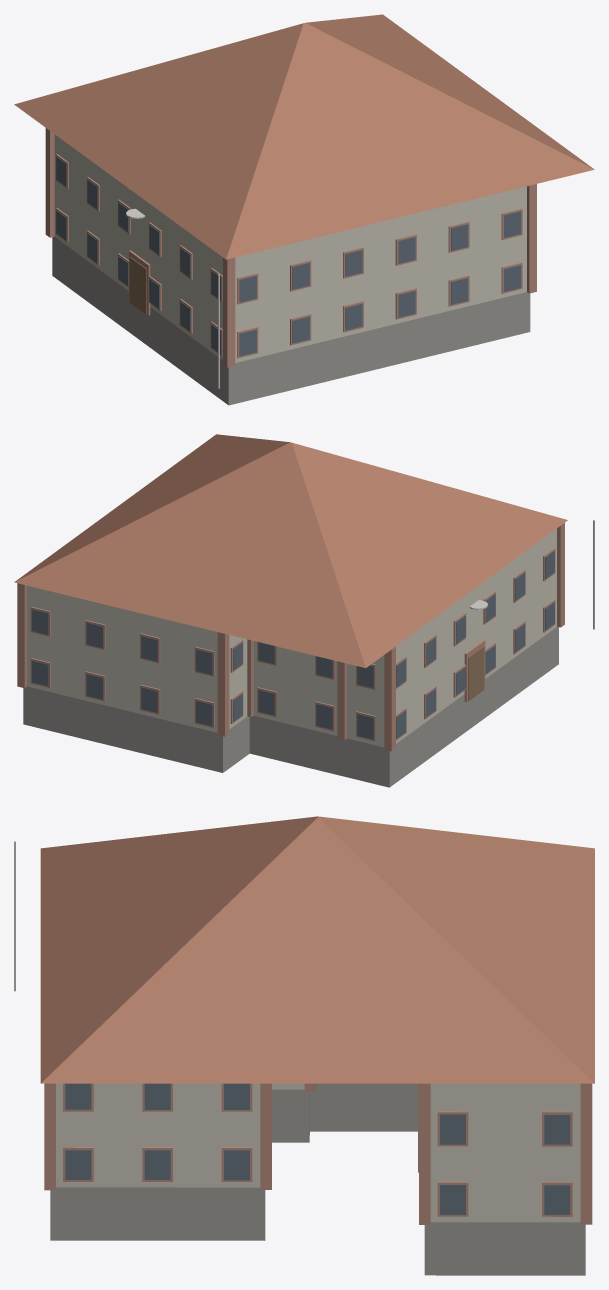
File: landmark-townhall-30483981.glb
The picture shows the model from 3 angles, top to bottom: view 1: azimuth 30°, elevation 25°; view 2: azimuth 150°, elevation 25°; view 3: azimuth 270°, elevation 25°; orthographic projection. The views are drawn at different scales.
Parts seen in each view (by area): view 1: building; view 2: building; view 3: building.
Boxes of the visible parts, left/top/right/bottom form: building: left=14, top=14, right=594, bottom=405; building: left=14, top=434, right=594, bottom=787; building: left=14, top=816, right=594, bottom=1275.
Size of the model in its own units: 24.82 by 16.2 by 24.72.
